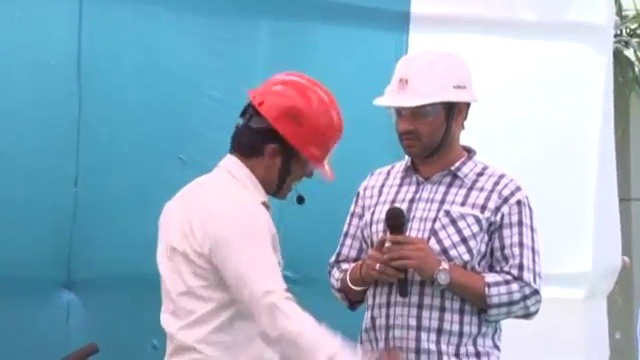helmet: (246, 70, 346, 180), (370, 47, 478, 111)
helmet_on: (223, 70, 349, 207), (366, 47, 479, 173)
person: (330, 48, 542, 360), (151, 74, 349, 360)
